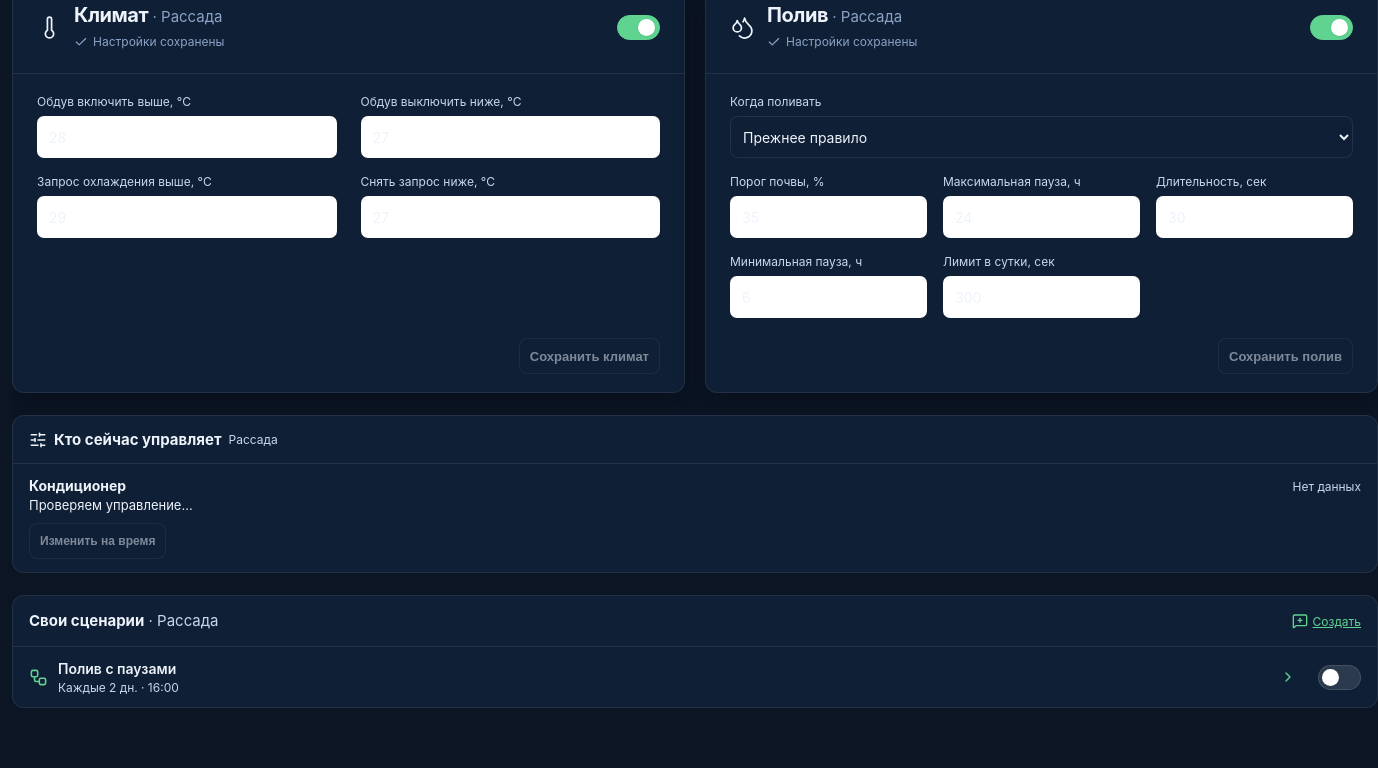
Test: AppAutomations › keeps a rejected switch off and shows the server conflict beside that routine
The image size is (1378, 768).
(page scrolled)
Click the switch named "Сценарий: Полив с паузами". click: [1340, 677]
box: [1318,665,1361,690]
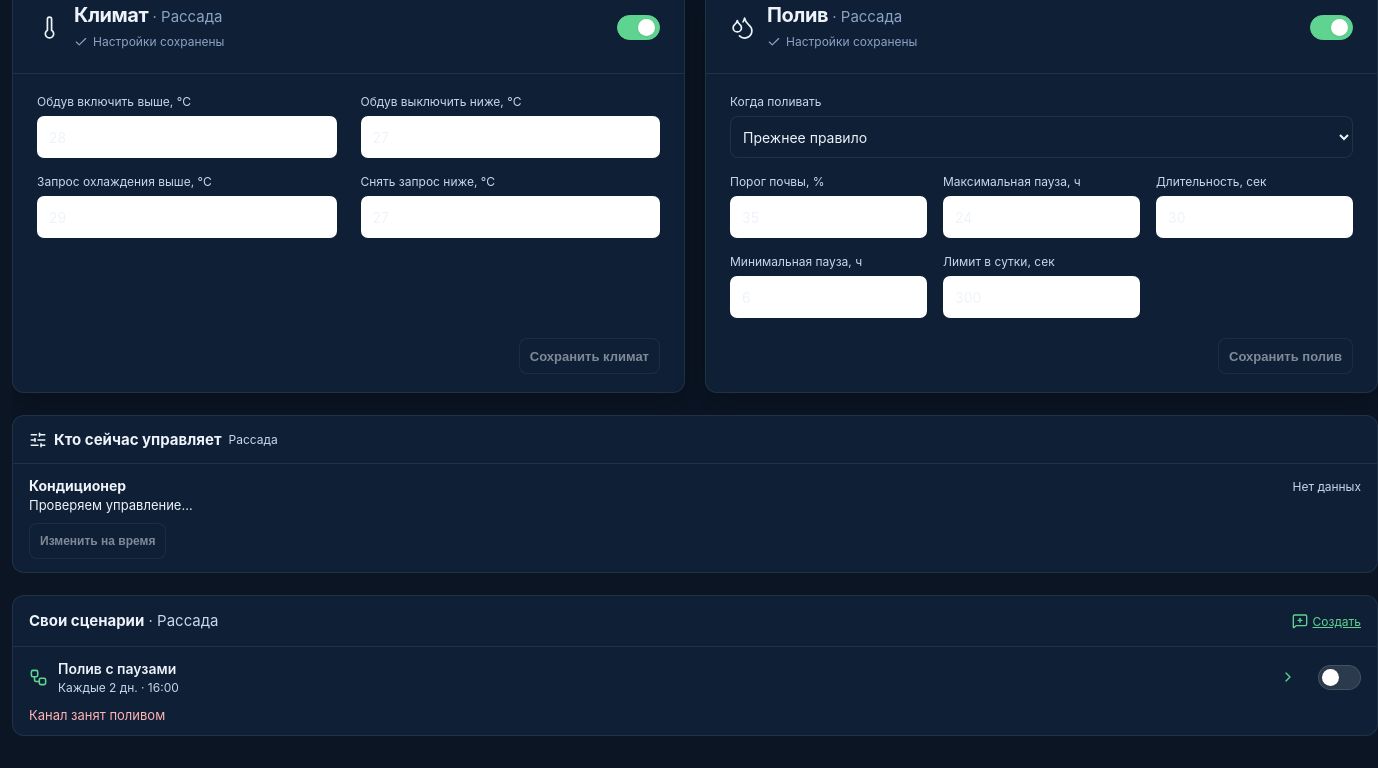
Now the message reads "Канал занят поливом", box [29,707,165,723]
